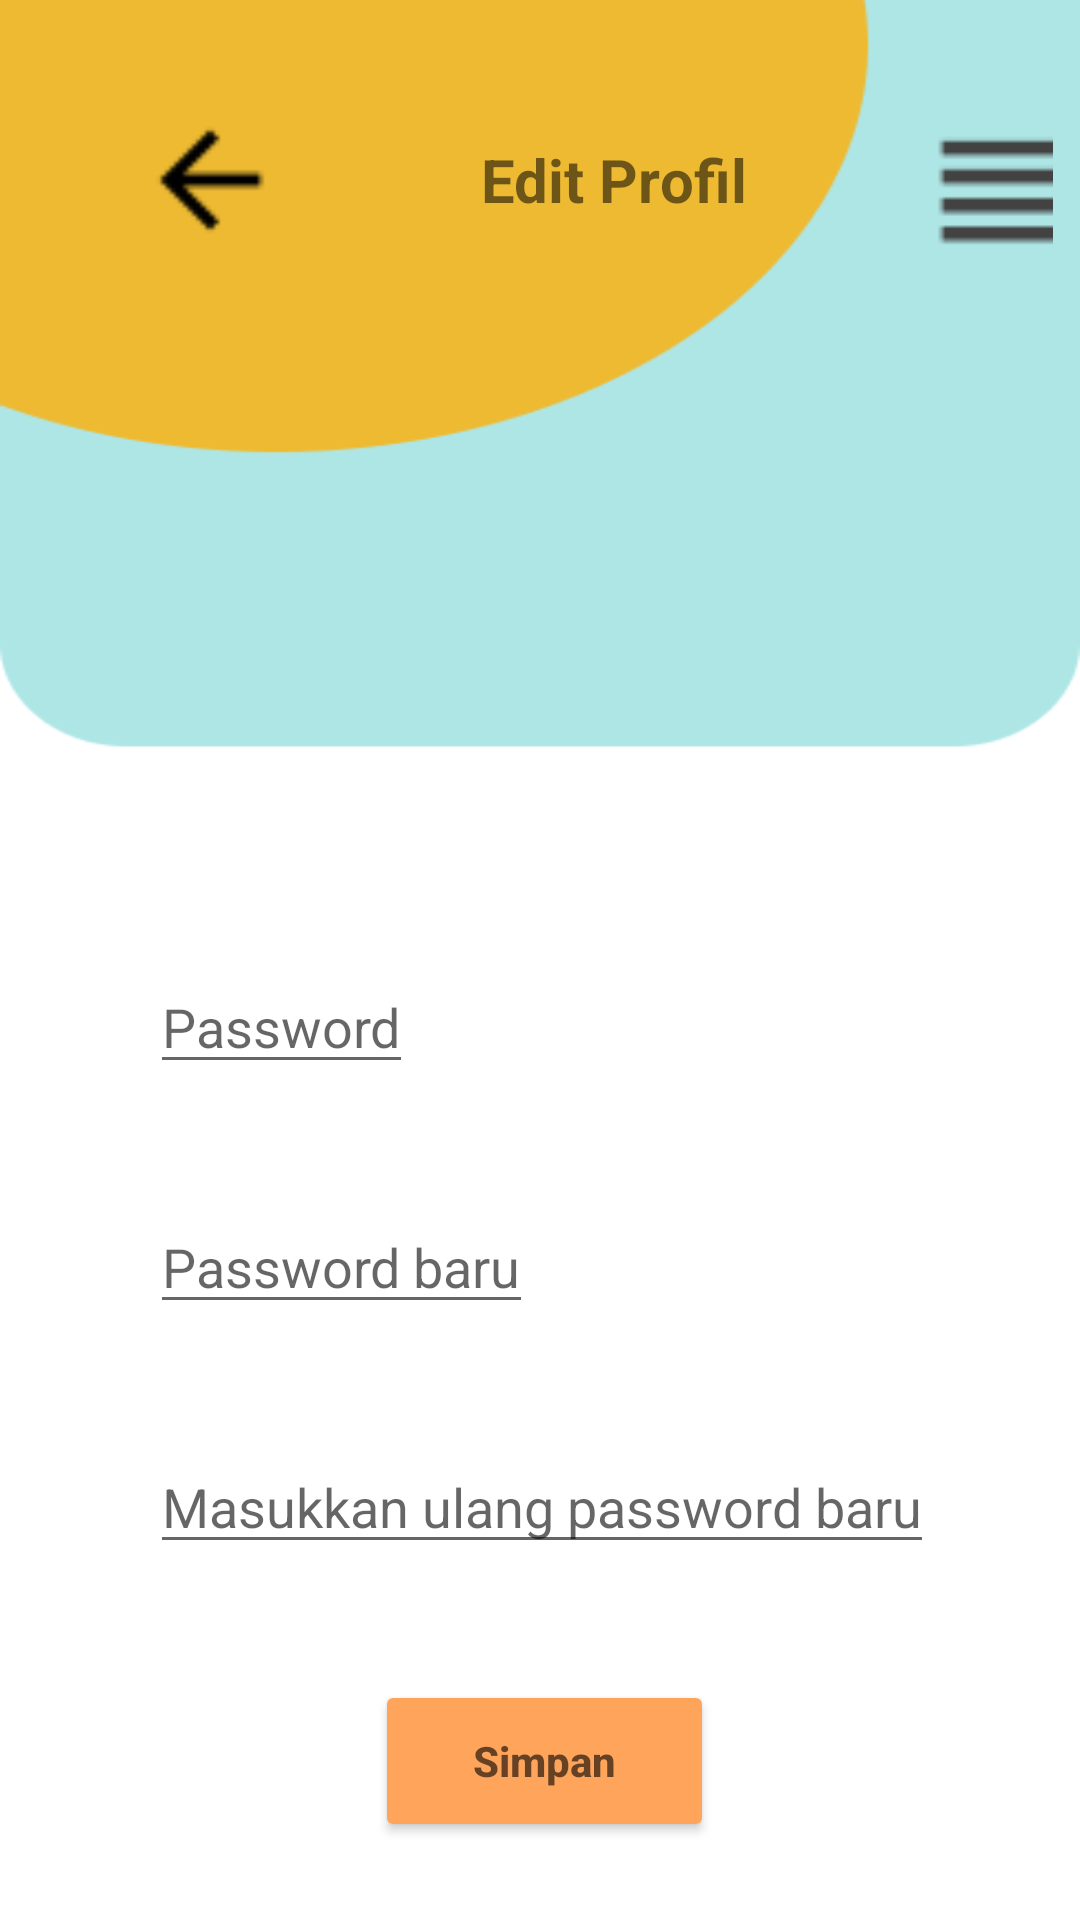

Where icons sit on this 1080px x 1920px app screen, as box(x1, y1, x2, y2):
arrow back: box(160, 130, 264, 230)
